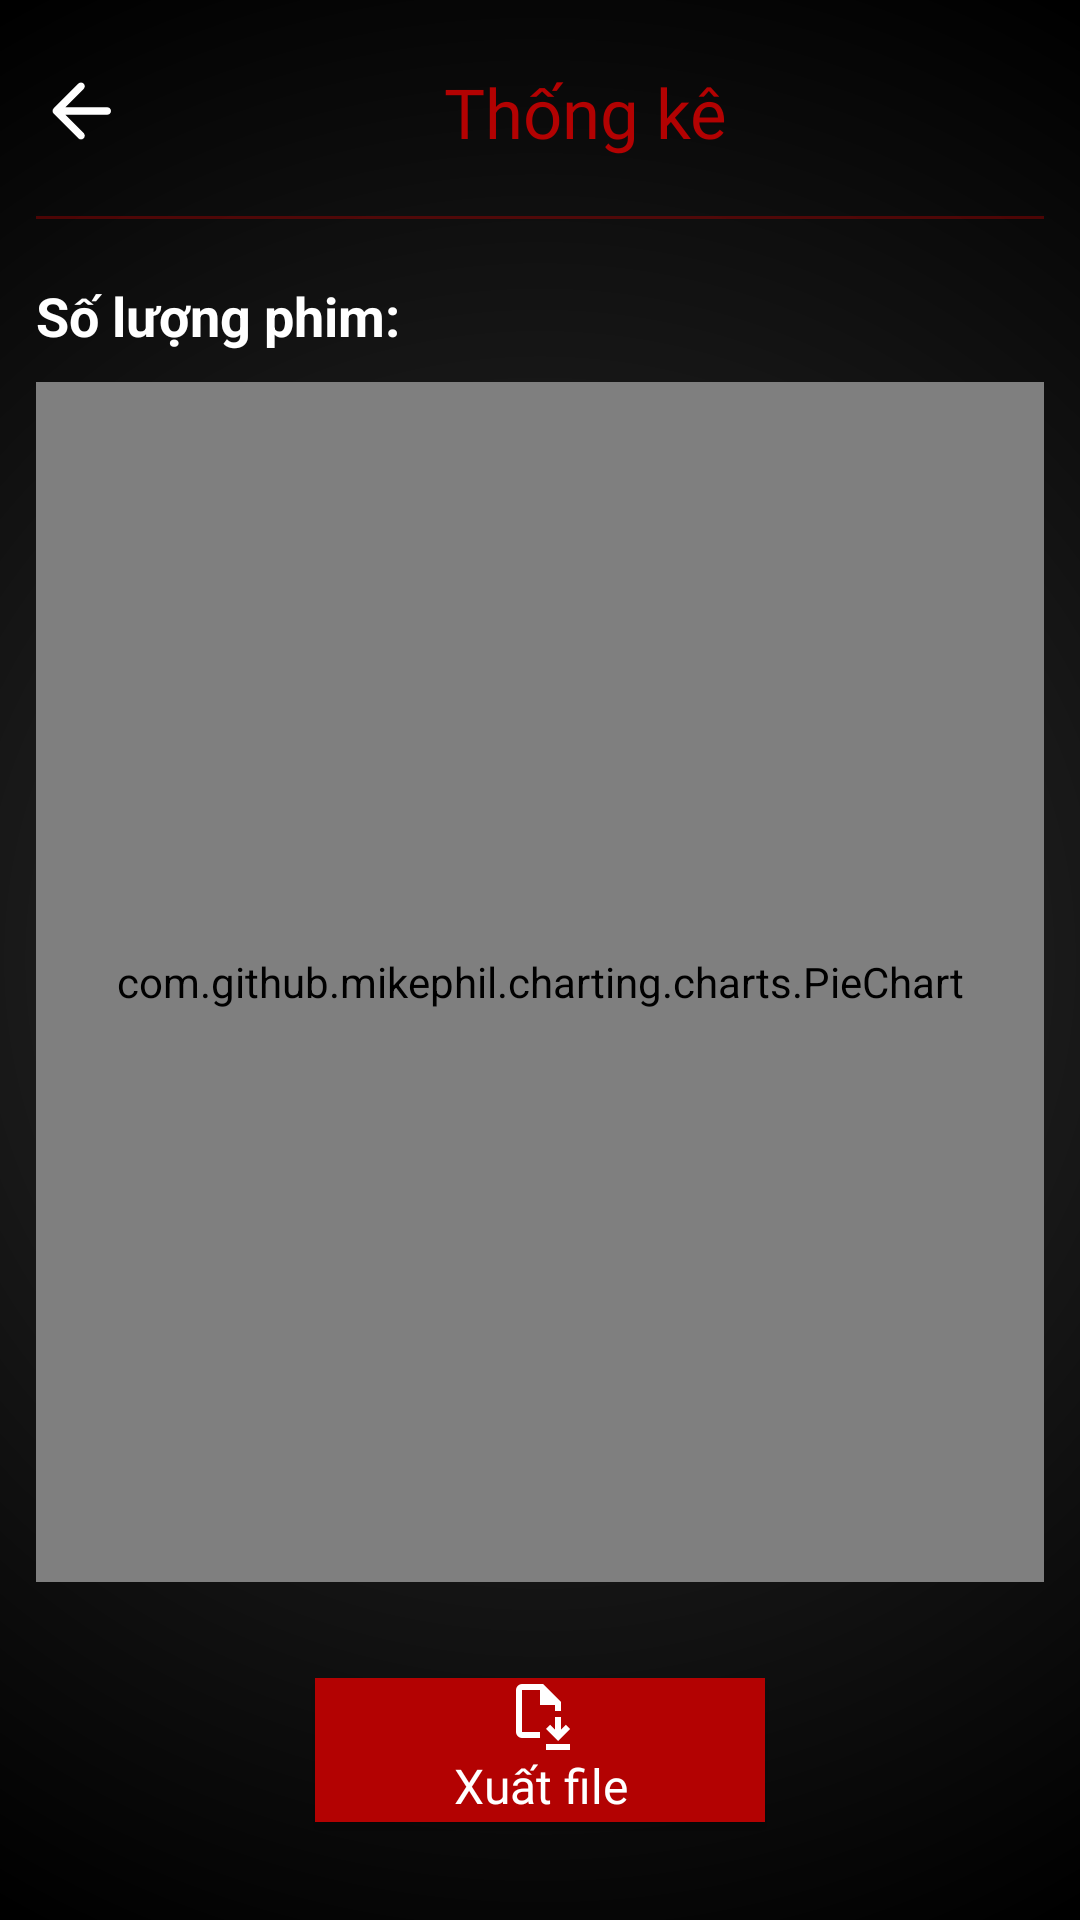

Icon bounding boxes for this 1080w x 1920h phone screenshot, format (x1, y1, x2, y2):
arrow back: (52, 82, 111, 140)
